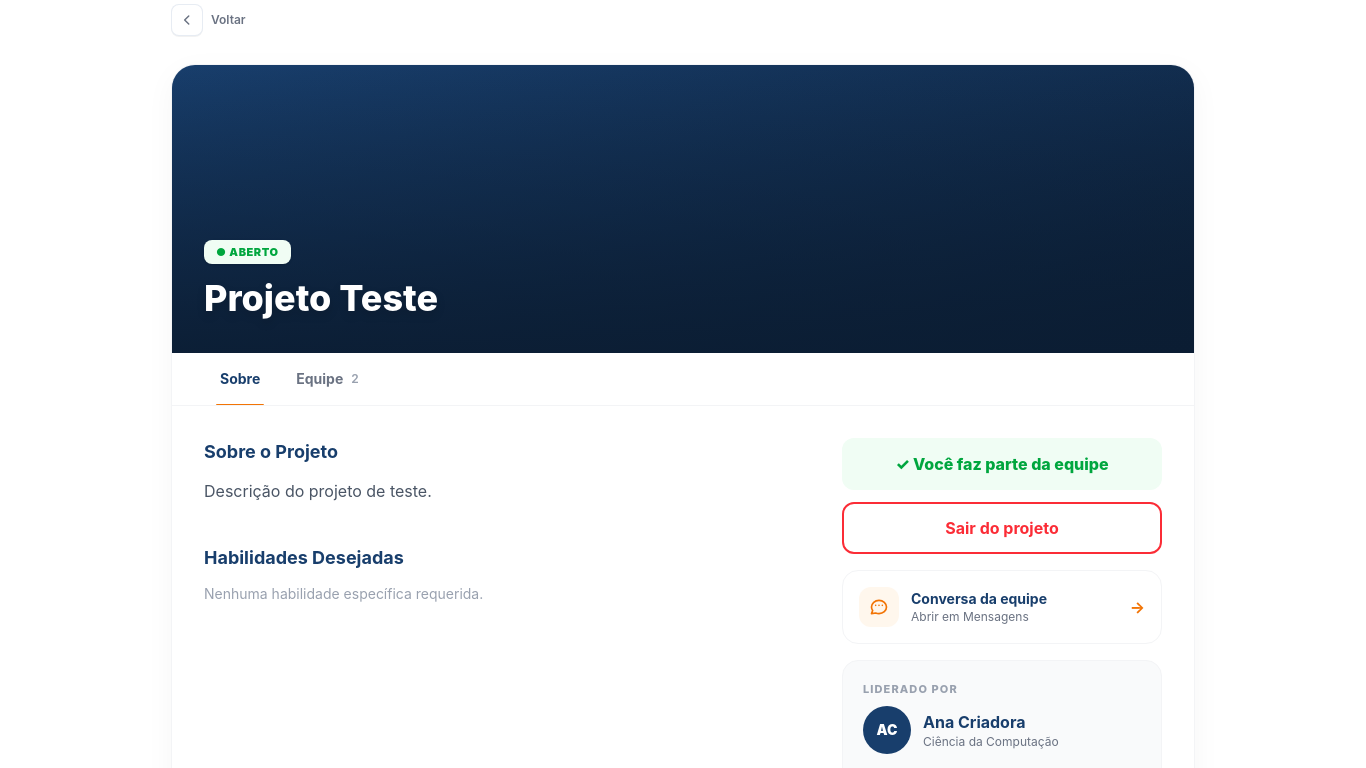
Scenario: DetalhesProjeto › permite que o próprio membro saia do projeto
The width and height of the screenshot is (1366, 768).
expect the text "✓ Você faz parte da equipe" is shown: met, box [842,438,1162,490]
Click the button "Sair do projeto". click: (1002, 528)
box: [842,502,1162,554]
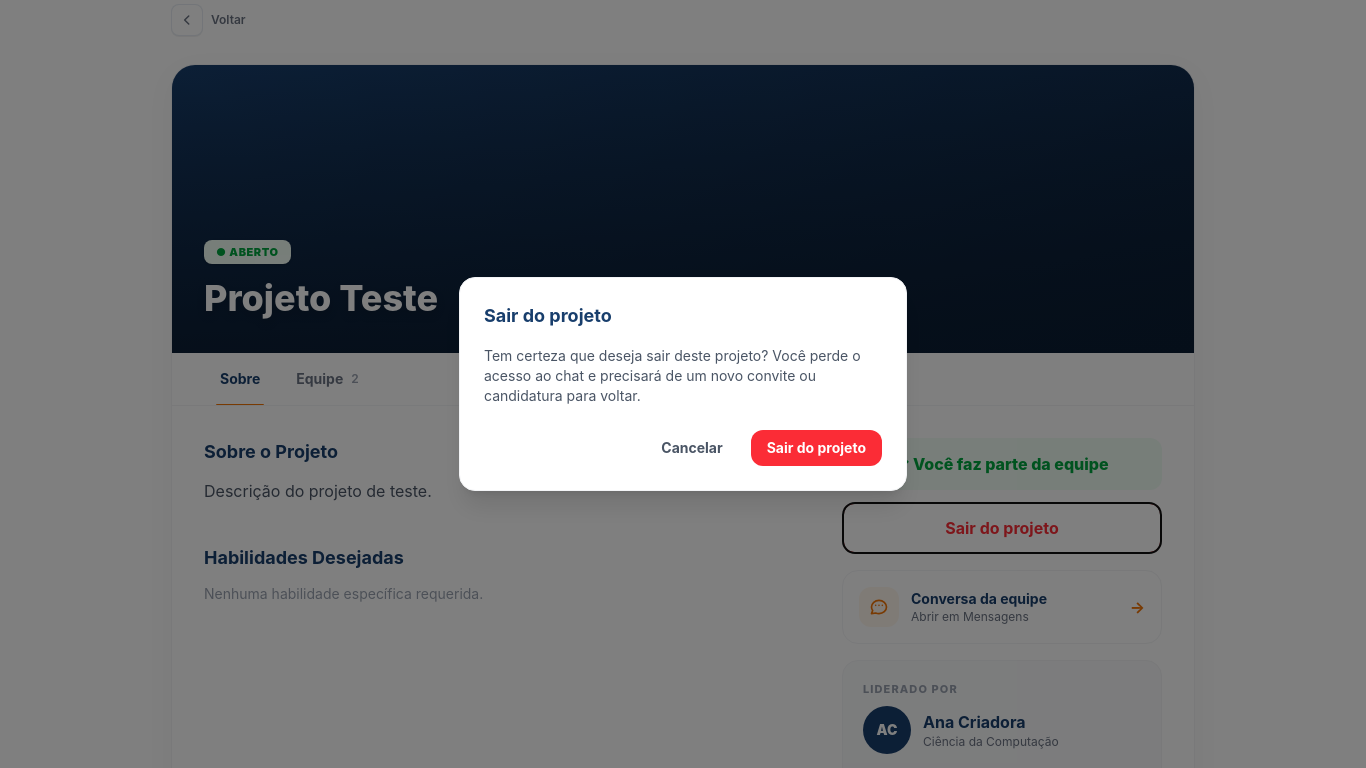
Click the button "Sair do projeto". click: (816, 448)
box: [751,430,882,466]
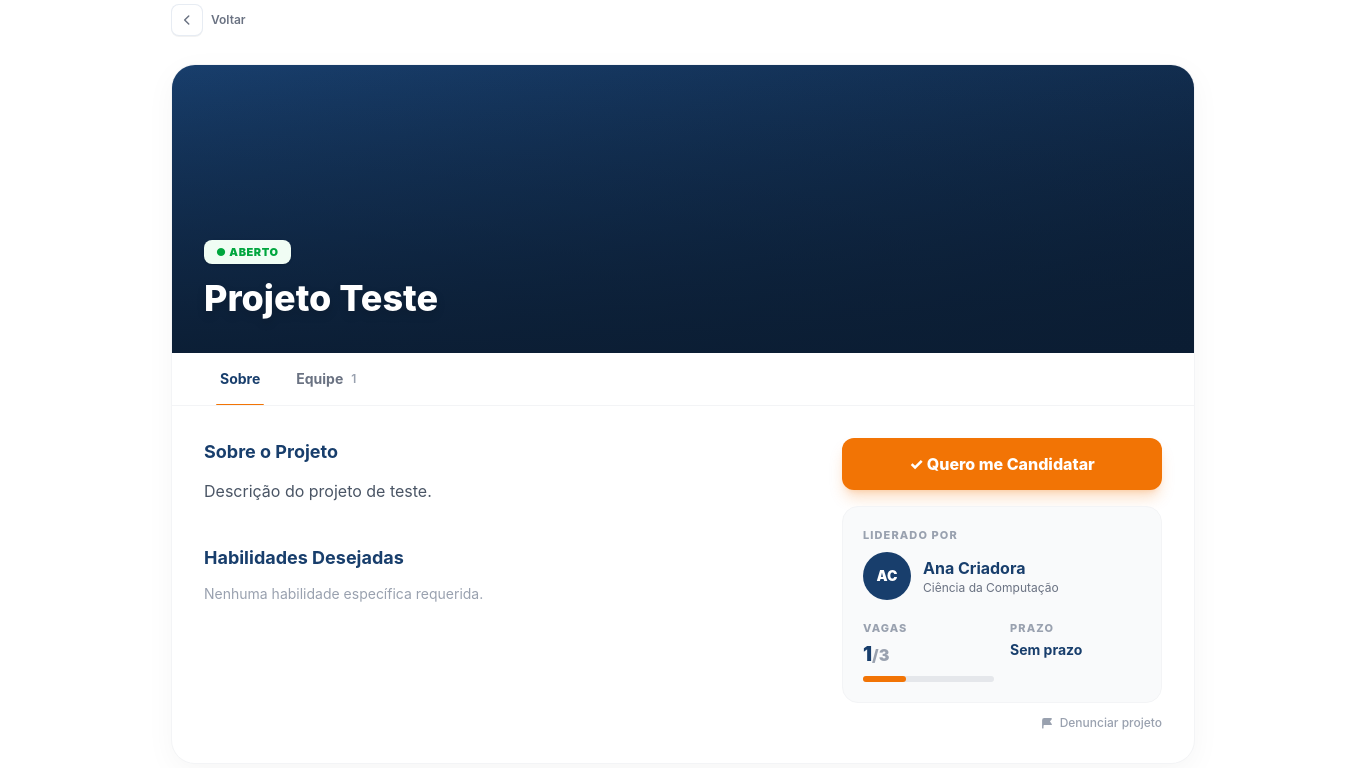
expect the button "✓ Quero me Candidatar" is shown: met, box [842,438,1162,490]
